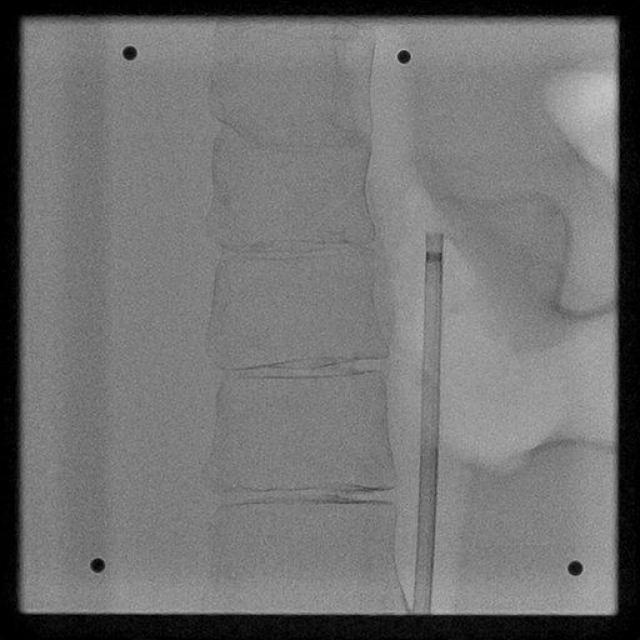bend: (420, 432, 439, 447)
entry: (412, 608, 431, 614)
marker: (425, 250, 444, 262)
tip: (425, 230, 444, 239)
